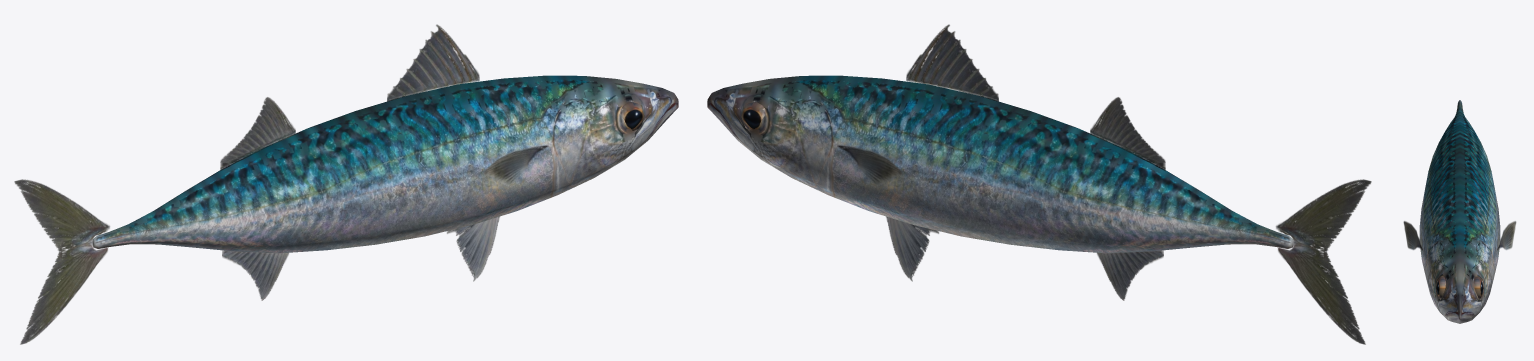
File: saba_lo.glb
The picture shows the model from 3 angles, left to right: view 1: azimuth 30°, elevation 25°; view 2: azimuth 150°, elevation 25°; view 3: azimuth 270°, elevation 25°; orthographic projection. The views are drawn at different scales.
Parts seen in each view (by area): view 1: saba; view 2: saba; view 3: saba.
Part boxes in pixels (x1,y1,x2,y2): saba: (14, 24, 678, 344); saba: (707, 24, 1371, 344); saba: (1403, 100, 1516, 323).
Size of the model in its own units: 0.3505 by 0.1341 by 0.0737.
Materials: 1 (1 with a texture image).
